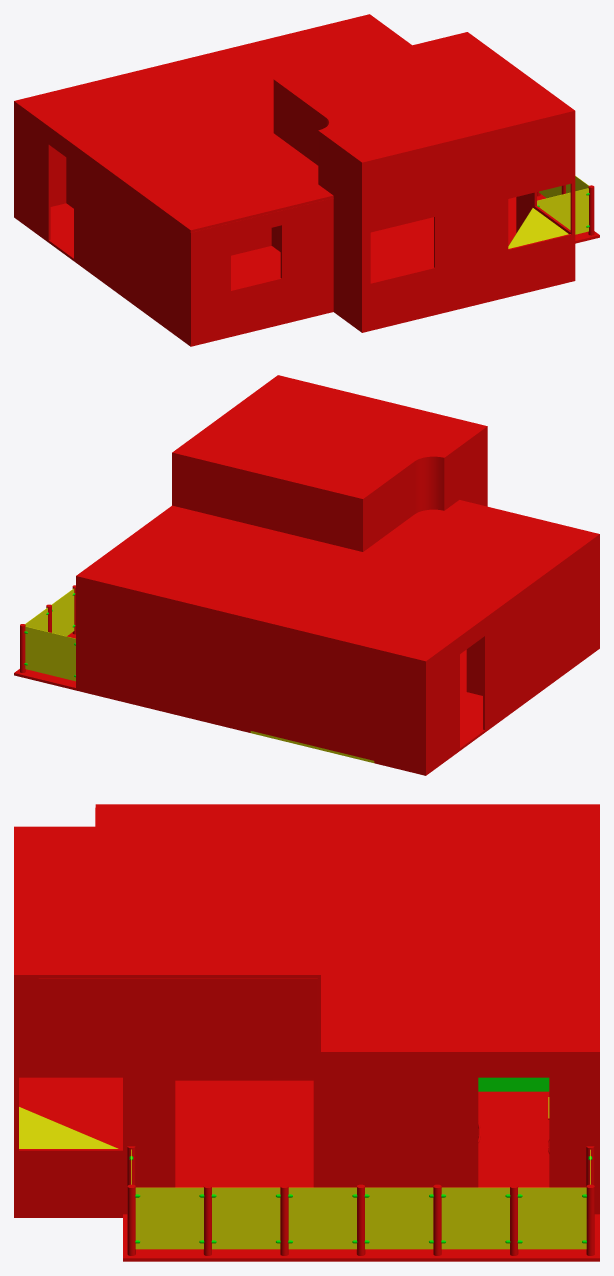
The model's file is target_houses_grp.fbx.
3 views of the same model, one above another, from view 1: azimuth 30°, elevation 25°; view 2: azimuth 150°, elevation 25°; view 3: azimuth 270°, elevation 25° (orthographic). The views are drawn at different scales.
Parts seen in each view (by area): view 1: target_house_01_walls, target_house_01_ceiling, target_house_01_floor, target_house_01_deck_wall, target_house_01_countertop_4, target_house_01_deck; view 2: target_house_01_ceiling, target_house_01_walls, target_house_01_deck_wall, target_house_01_floor, target_house_01_deck; view 3: target_house_01_ceiling, target_house_01_walls, target_house_01_deck_wall, target_house_01_floor, target_house_01_deck, target_house_01_countertop_4.
Boxes of the visible parts, x1,y1,x2,y2 form: target_house_01_walls: (14, 83, 575, 344); target_house_01_ceiling: (14, 14, 575, 232); target_house_01_floor: (14, 203, 575, 346); target_house_01_deck_wall: (537, 176, 594, 235); target_house_01_countertop_4: (508, 208, 568, 248); target_house_01_deck: (508, 194, 599, 243); target_house_01_ceiling: (76, 375, 599, 663); target_house_01_walls: (76, 429, 599, 773); target_house_01_deck_wall: (20, 585, 75, 681); target_house_01_floor: (76, 646, 599, 775); target_house_01_deck: (14, 632, 75, 690); target_house_01_ceiling: (14, 804, 599, 1055); target_house_01_walls: (14, 808, 599, 1214); target_house_01_deck_wall: (127, 1146, 594, 1255); target_house_01_floor: (14, 1077, 549, 1217); target_house_01_deck: (123, 1214, 599, 1261); target_house_01_countertop_4: (19, 1107, 118, 1148).
Bounding box in the file's own units: 951 × 369 × 808.
